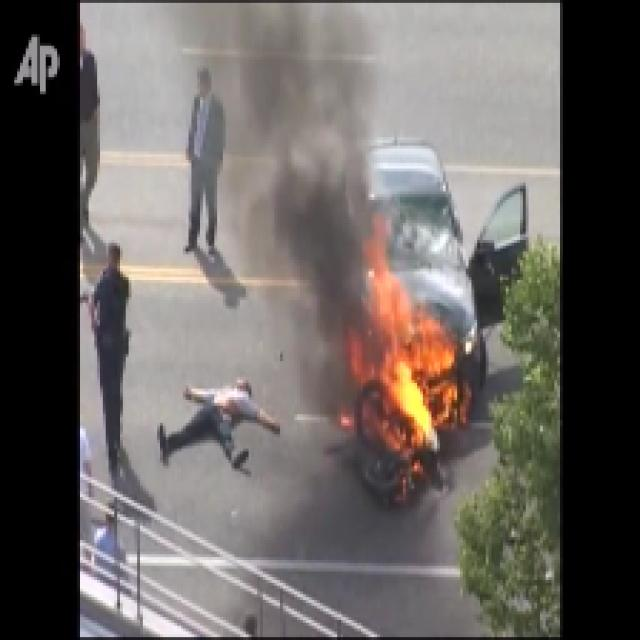fire: (372, 314, 460, 434)
smoke: (283, 96, 366, 318)
